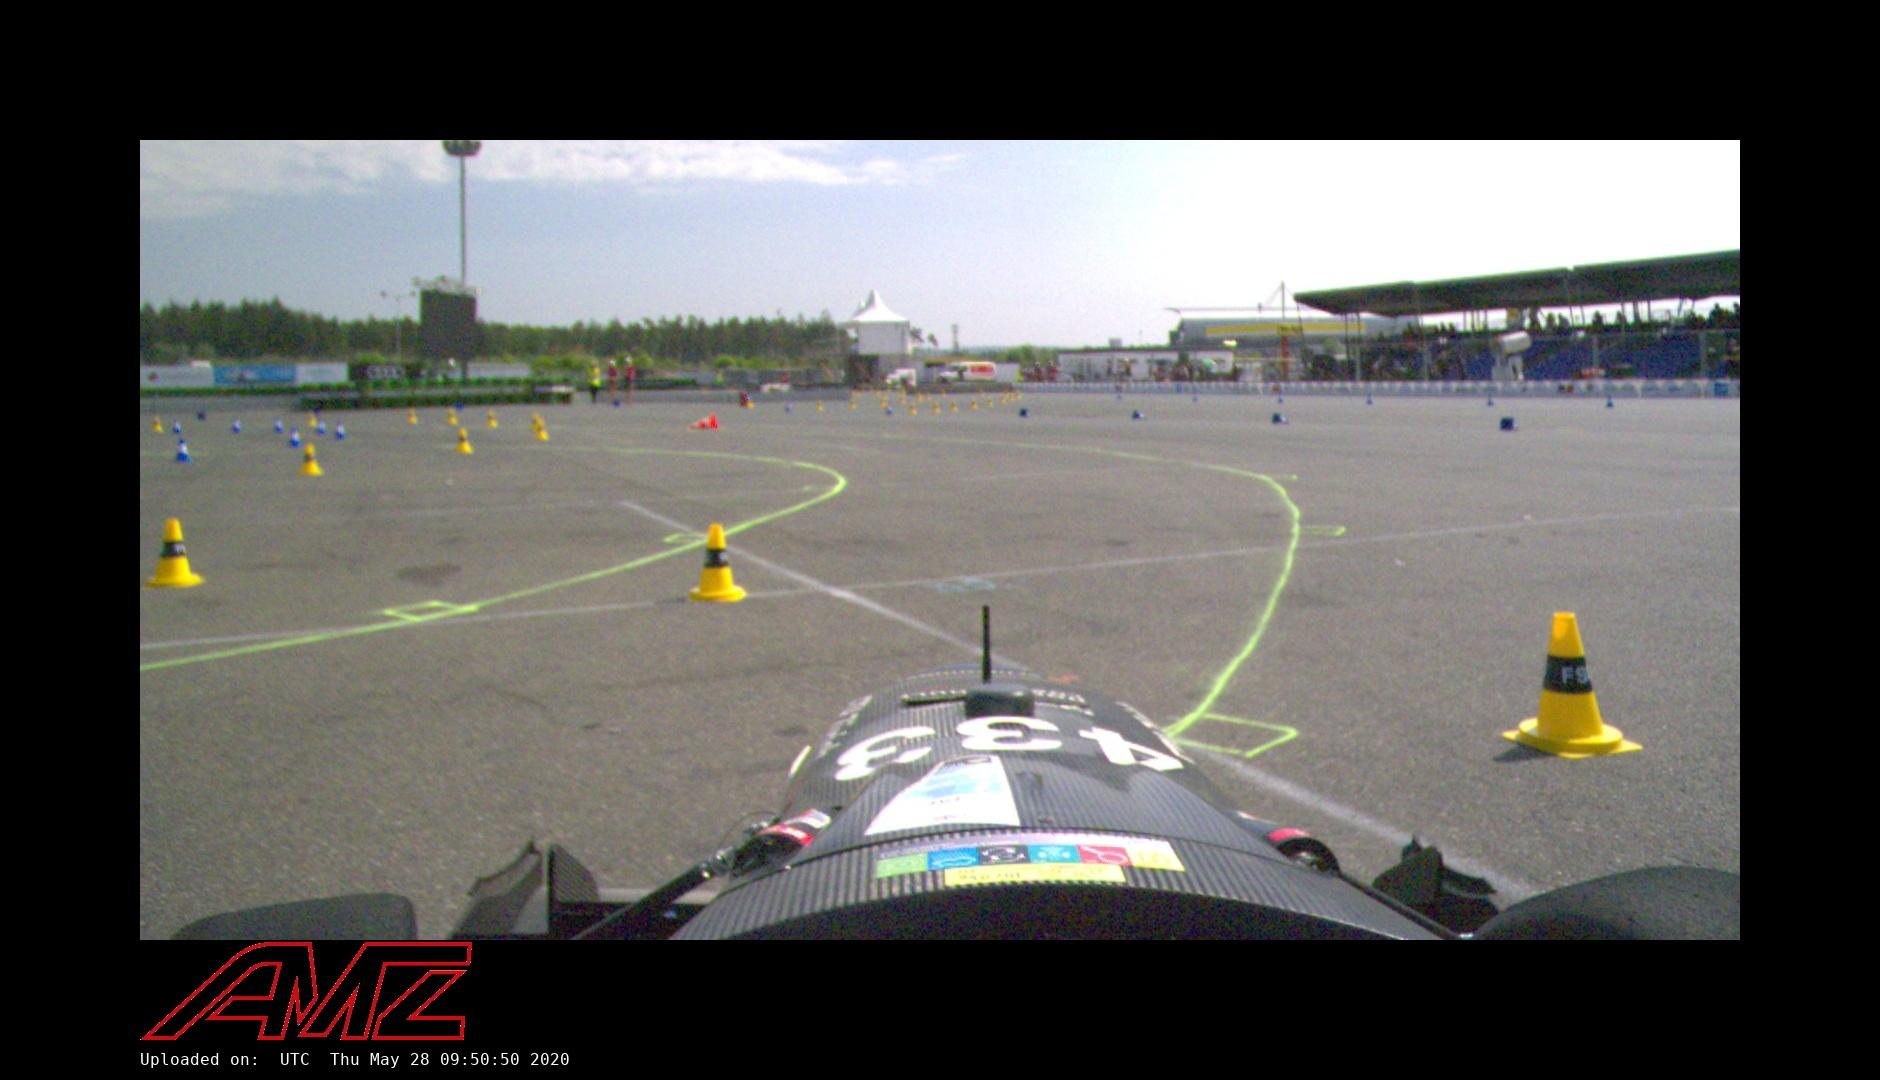blue_cone: (173, 438, 191, 462), (1499, 417, 1518, 431), (288, 428, 301, 447), (334, 421, 347, 441), (272, 417, 284, 434), (315, 419, 327, 435), (170, 420, 182, 435), (231, 419, 243, 434), (1272, 413, 1289, 424), (1132, 410, 1147, 420), (1606, 394, 1615, 408), (1019, 408, 1030, 419), (785, 400, 794, 413), (1486, 393, 1495, 406), (1277, 391, 1285, 406), (886, 404, 894, 416), (1116, 389, 1123, 400), (1366, 393, 1373, 406), (1192, 391, 1200, 402)
orange_cone: (686, 412, 718, 430)
yellow_cone: (1500, 611, 1642, 758), (686, 524, 745, 605), (145, 518, 203, 590), (297, 442, 325, 477), (453, 428, 476, 453), (535, 419, 550, 442), (529, 412, 545, 433), (150, 415, 164, 431), (485, 410, 498, 428), (306, 408, 318, 428), (447, 407, 458, 426), (407, 407, 418, 424), (932, 400, 940, 413), (815, 400, 824, 411), (850, 398, 857, 410), (879, 397, 887, 408), (970, 399, 977, 410), (909, 403, 915, 415), (915, 391, 922, 402), (950, 400, 957, 411), (899, 395, 905, 404), (986, 398, 993, 407), (925, 391, 931, 400), (940, 388, 946, 397), (1015, 391, 1021, 399), (999, 395, 1005, 404), (1008, 394, 1014, 400)
